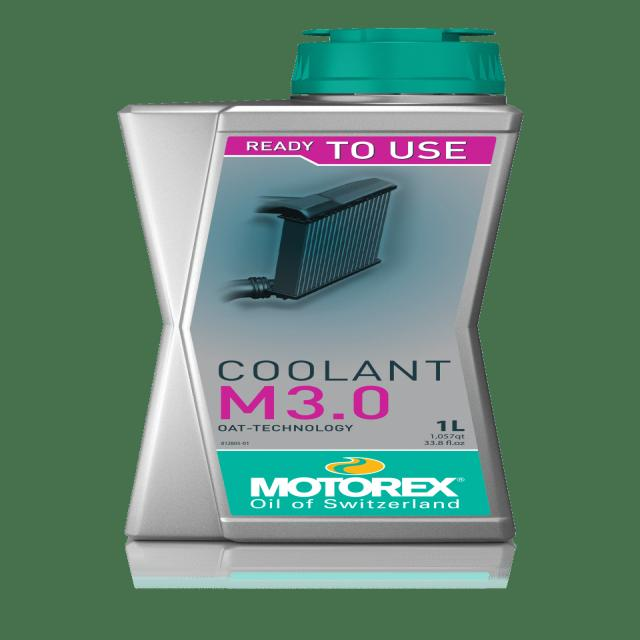coolant: (106, 19, 552, 557)
